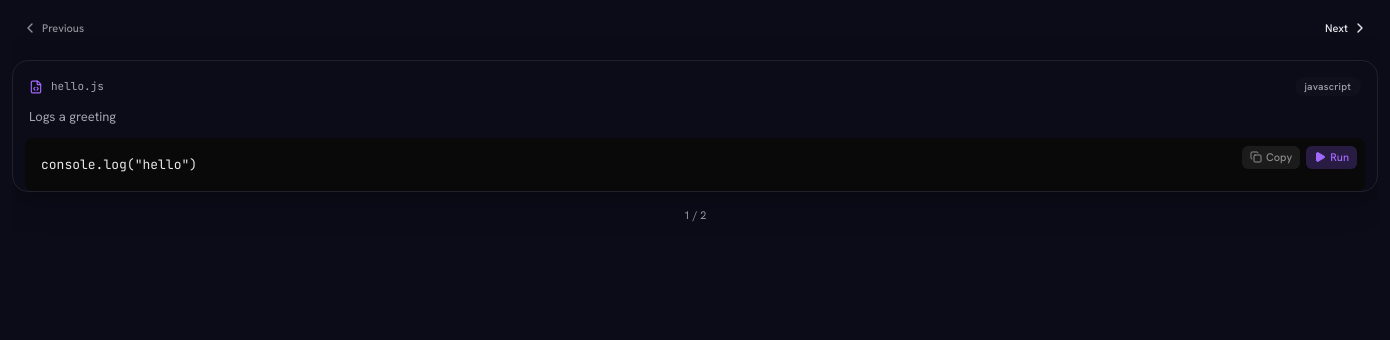
Test case: CodePlayground › should display console output that originates from its own iframe
Click the button "Run": (1332, 157) [1306, 146, 1357, 169]
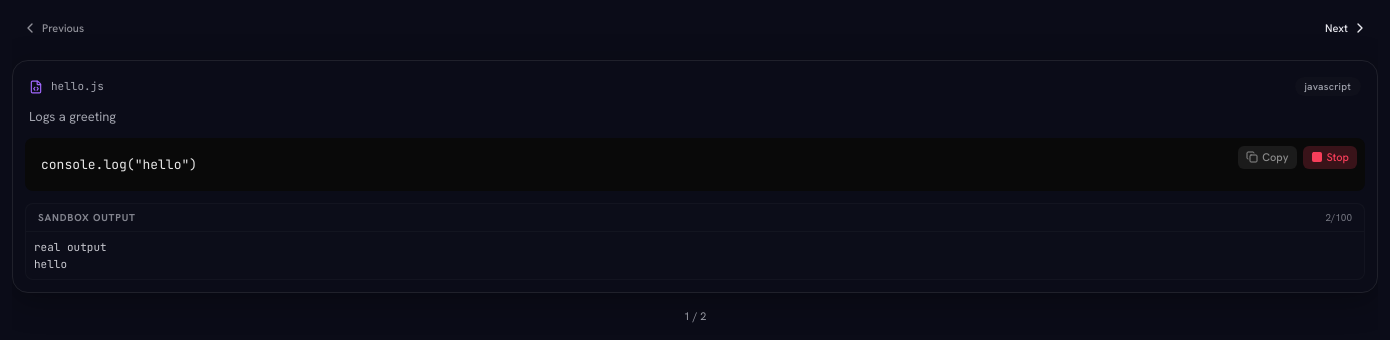
Expected: the text "real output" is shown, [34, 240, 107, 254]
